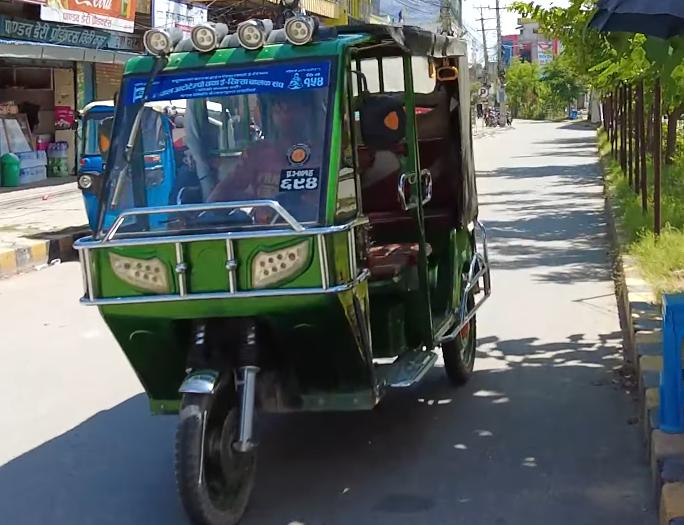e-rickshaw: (72, 17, 497, 525)
